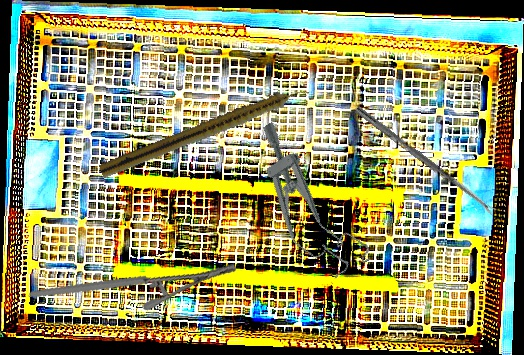Handpiece: (98, 81, 312, 183)
Needle Holder: (28, 222, 239, 338)
Speculum: (232, 114, 375, 290)
Surgical Spoon: (353, 106, 497, 216)
